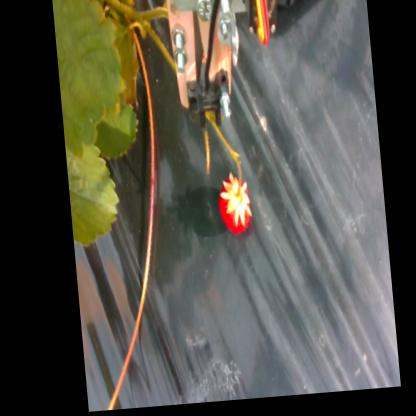ripe: (212, 172, 253, 240)
